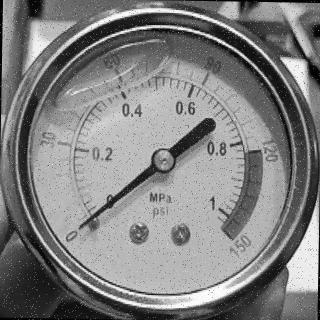gauge: (0, 0, 320, 320), (202, 192, 248, 258), (74, 206, 112, 236), (150, 147, 179, 173), (74, 218, 94, 232)
